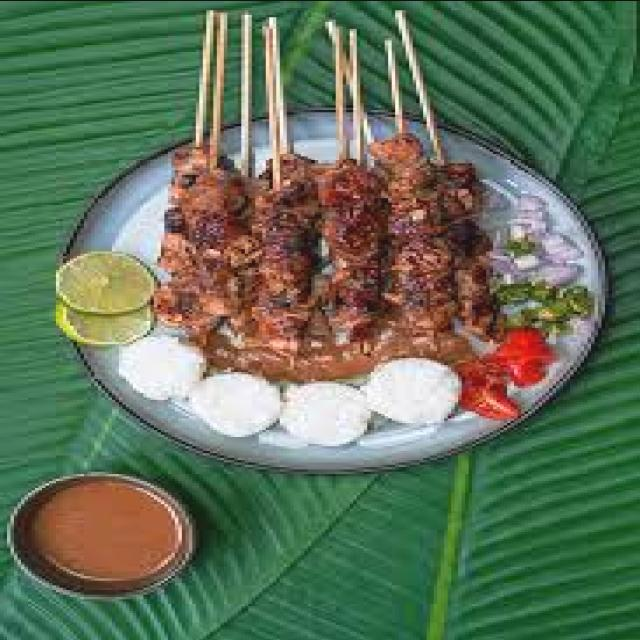sate: (140, 17, 482, 356)
